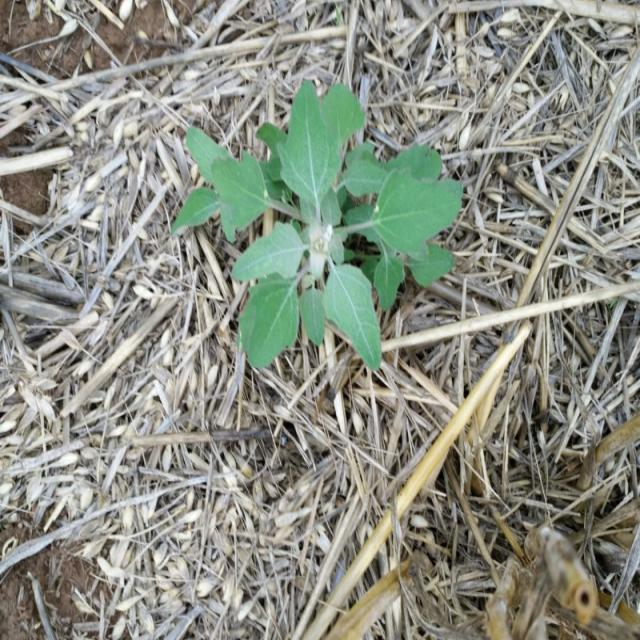goosefoots: (172, 99, 454, 353)
